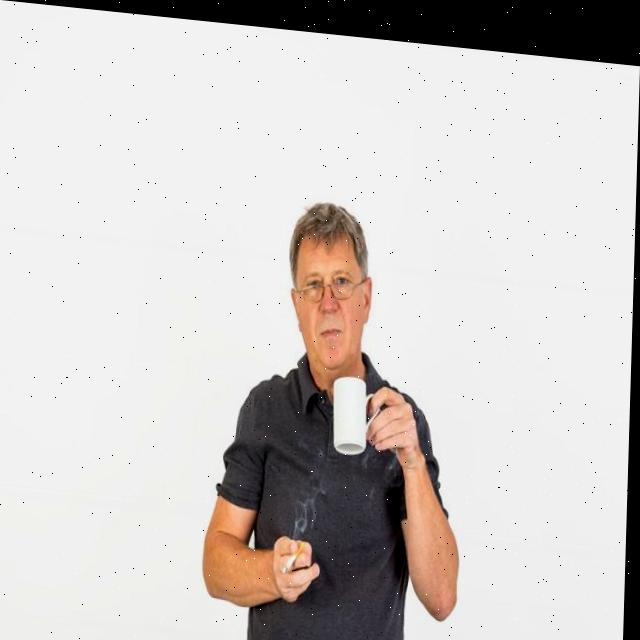cigarette: (286, 534, 307, 568)
